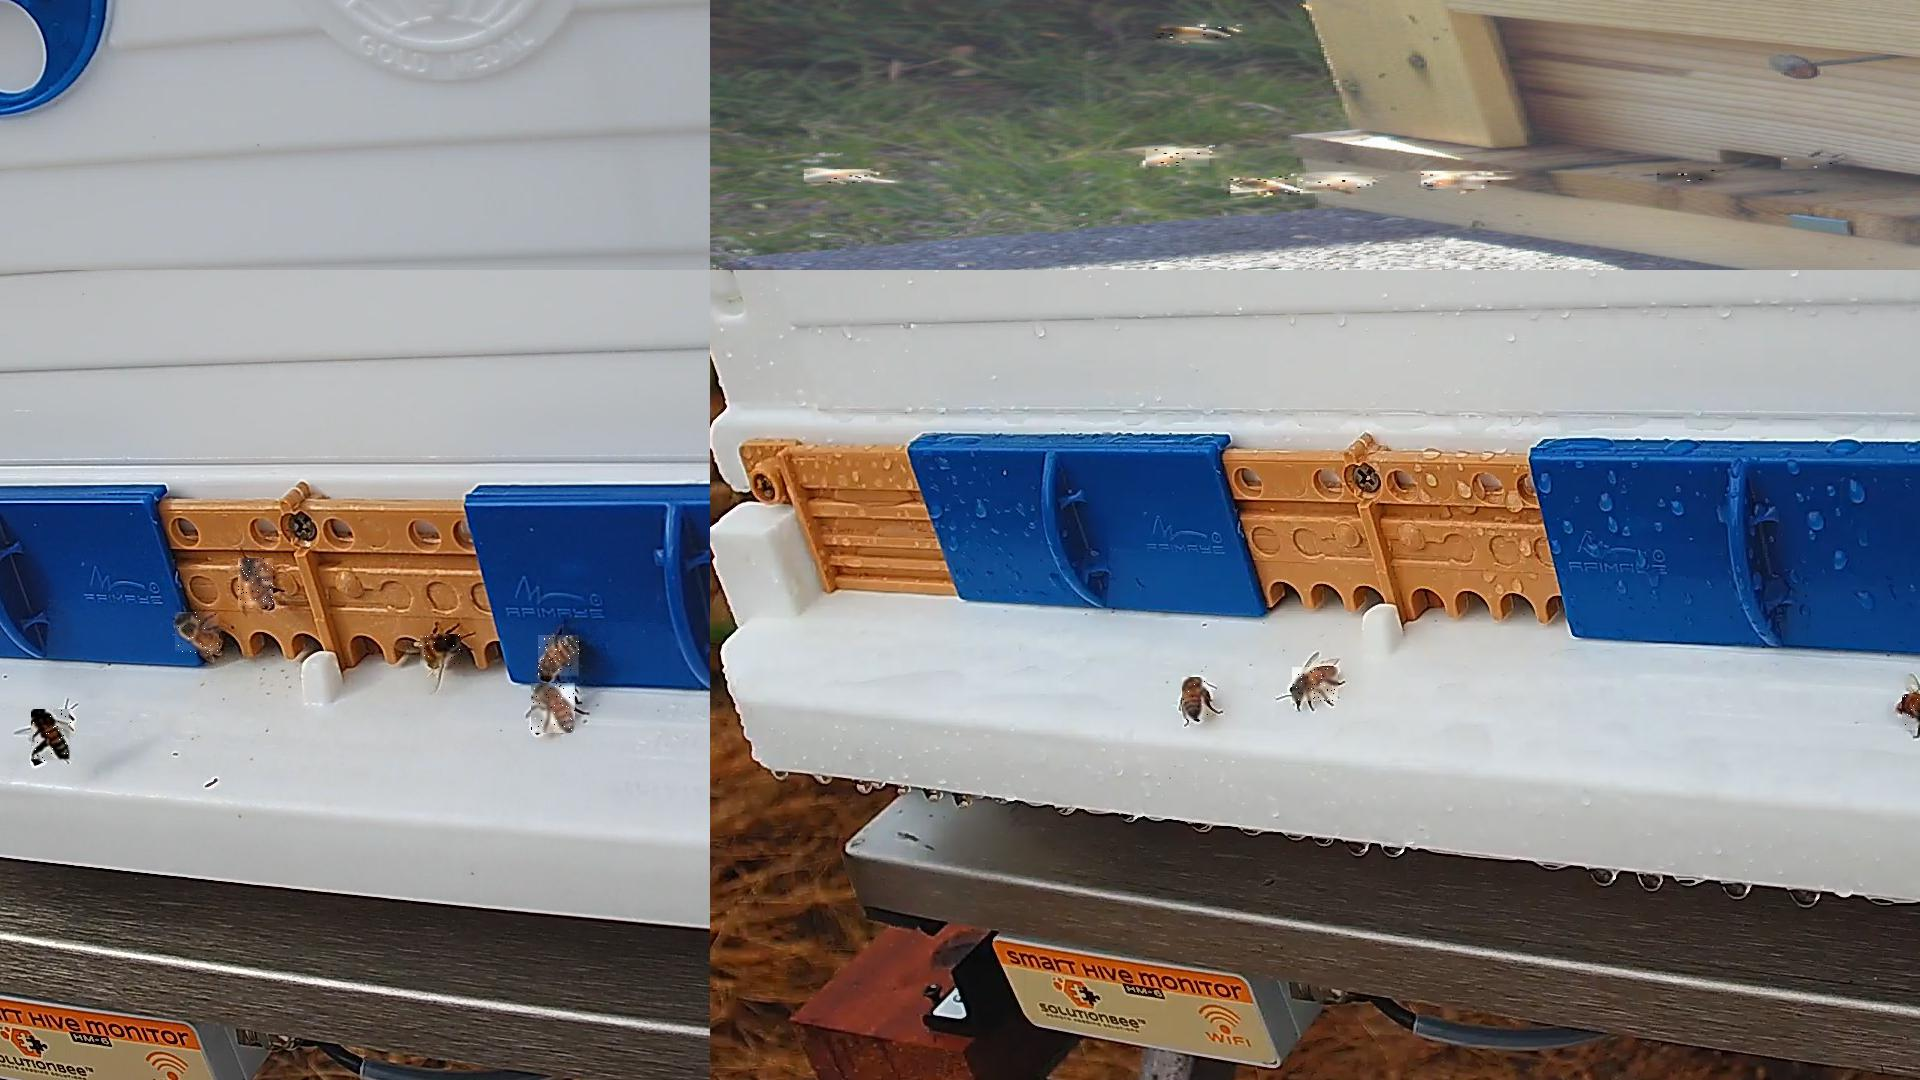bee: (531, 683, 576, 735), (32, 709, 74, 764), (175, 613, 220, 655), (538, 636, 580, 680), (239, 559, 274, 609), (1292, 667, 1340, 702), (1232, 177, 1307, 196), (1423, 171, 1497, 190), (421, 634, 462, 667), (1158, 28, 1242, 42), (1146, 149, 1212, 167), (1183, 678, 1211, 721), (807, 170, 880, 185), (1298, 177, 1377, 190), (1658, 170, 1718, 183), (1783, 158, 1841, 170), (1902, 694, 1919, 731)
